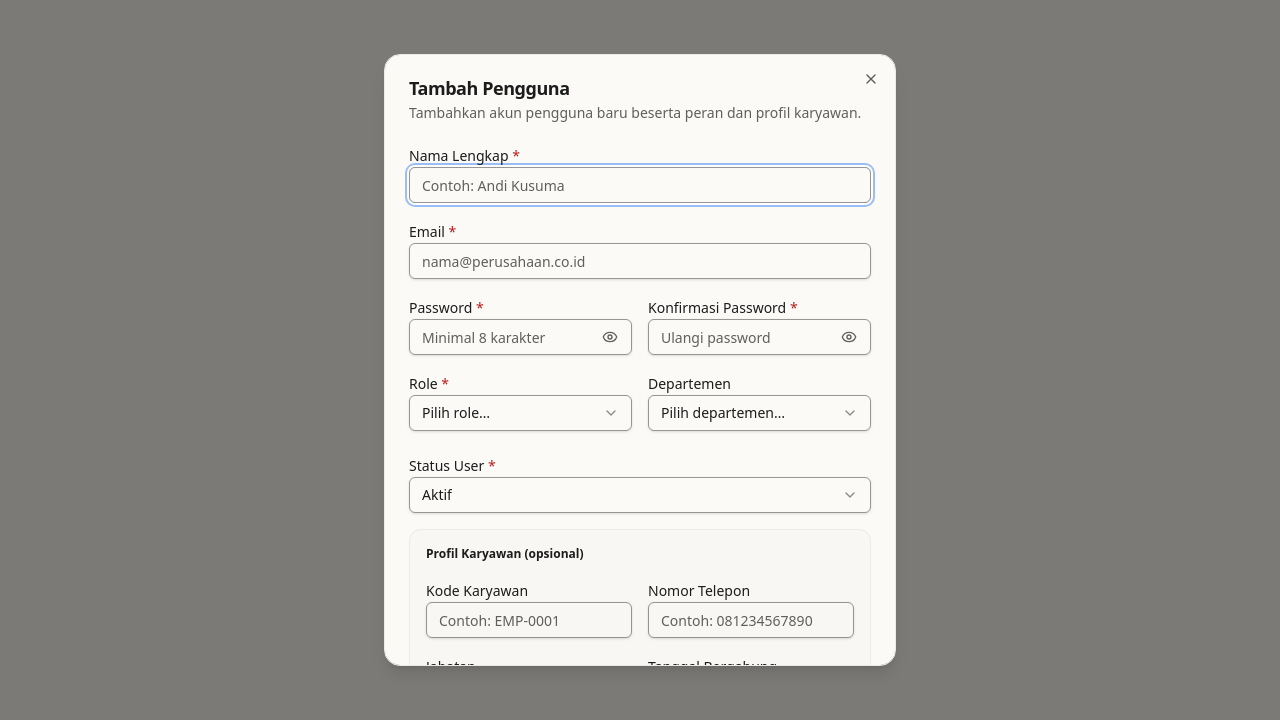
Test: UserFormDialog › renders role select items in Indonesian rather than raw English keys
Step 1. Click the dropdown named "role *" → {"x": 520, "y": 413}, box [409,395,632,431]
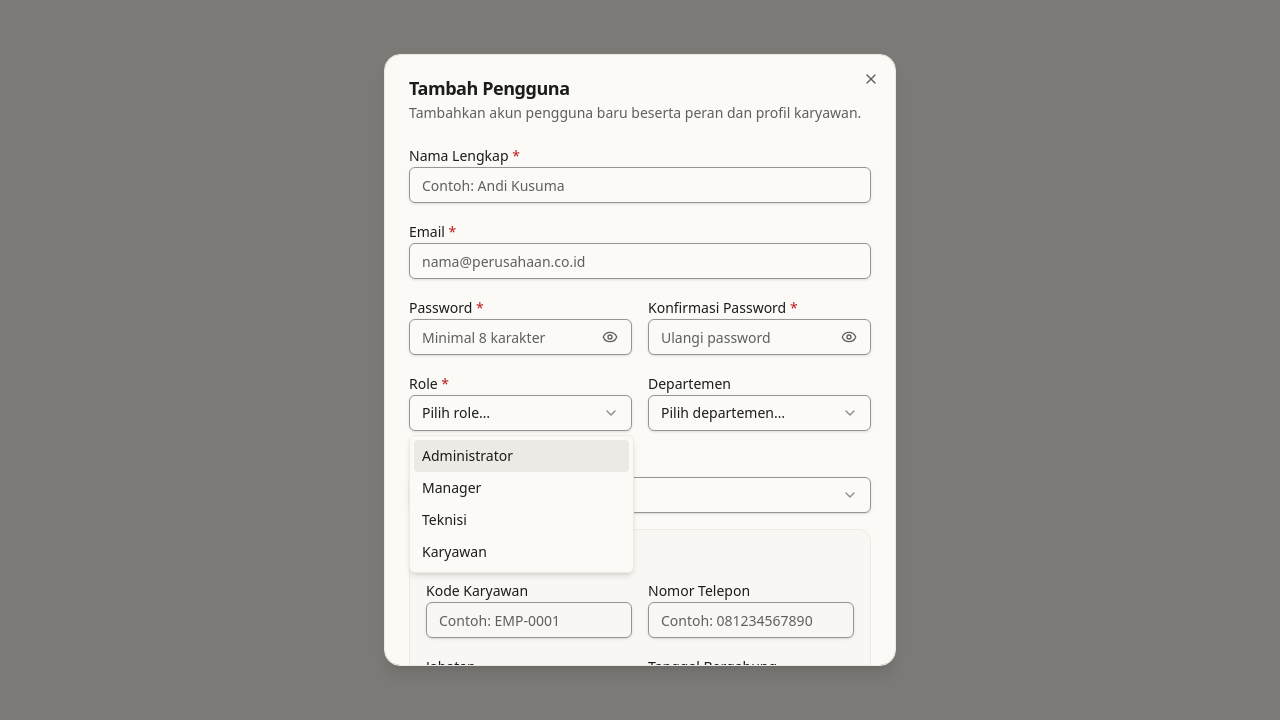
expect the option "Administrator" is shown: met, box [414,440,629,472]
expect the option "Manager" is shown: met, box [422,478,481,497]
expect the option "Teknisi" is shown: met, box [422,510,467,529]
